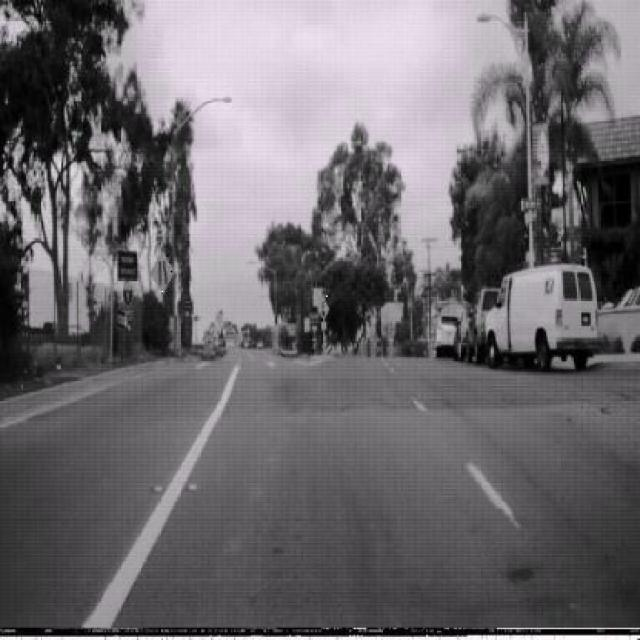laneEnds: (149, 246, 175, 297)
signalAhead: (317, 296, 330, 322)
